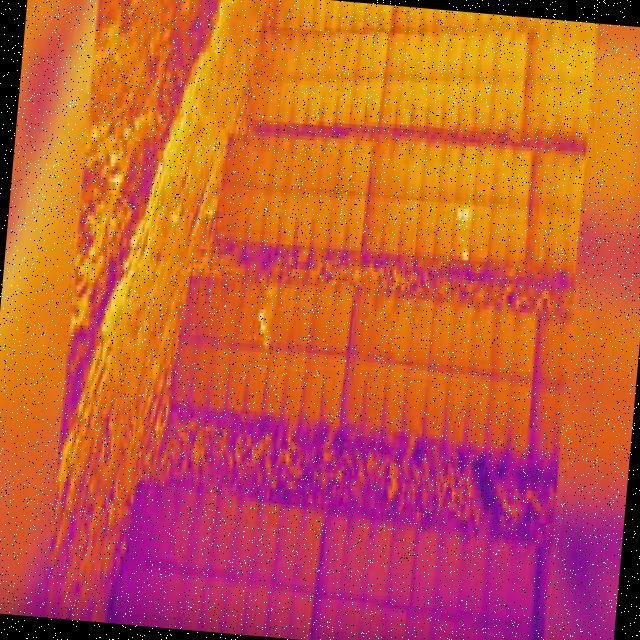Hotspot: (462, 244, 472, 264), (254, 308, 264, 328), (260, 332, 270, 346), (461, 204, 468, 220), (260, 321, 266, 336), (455, 208, 462, 220)
